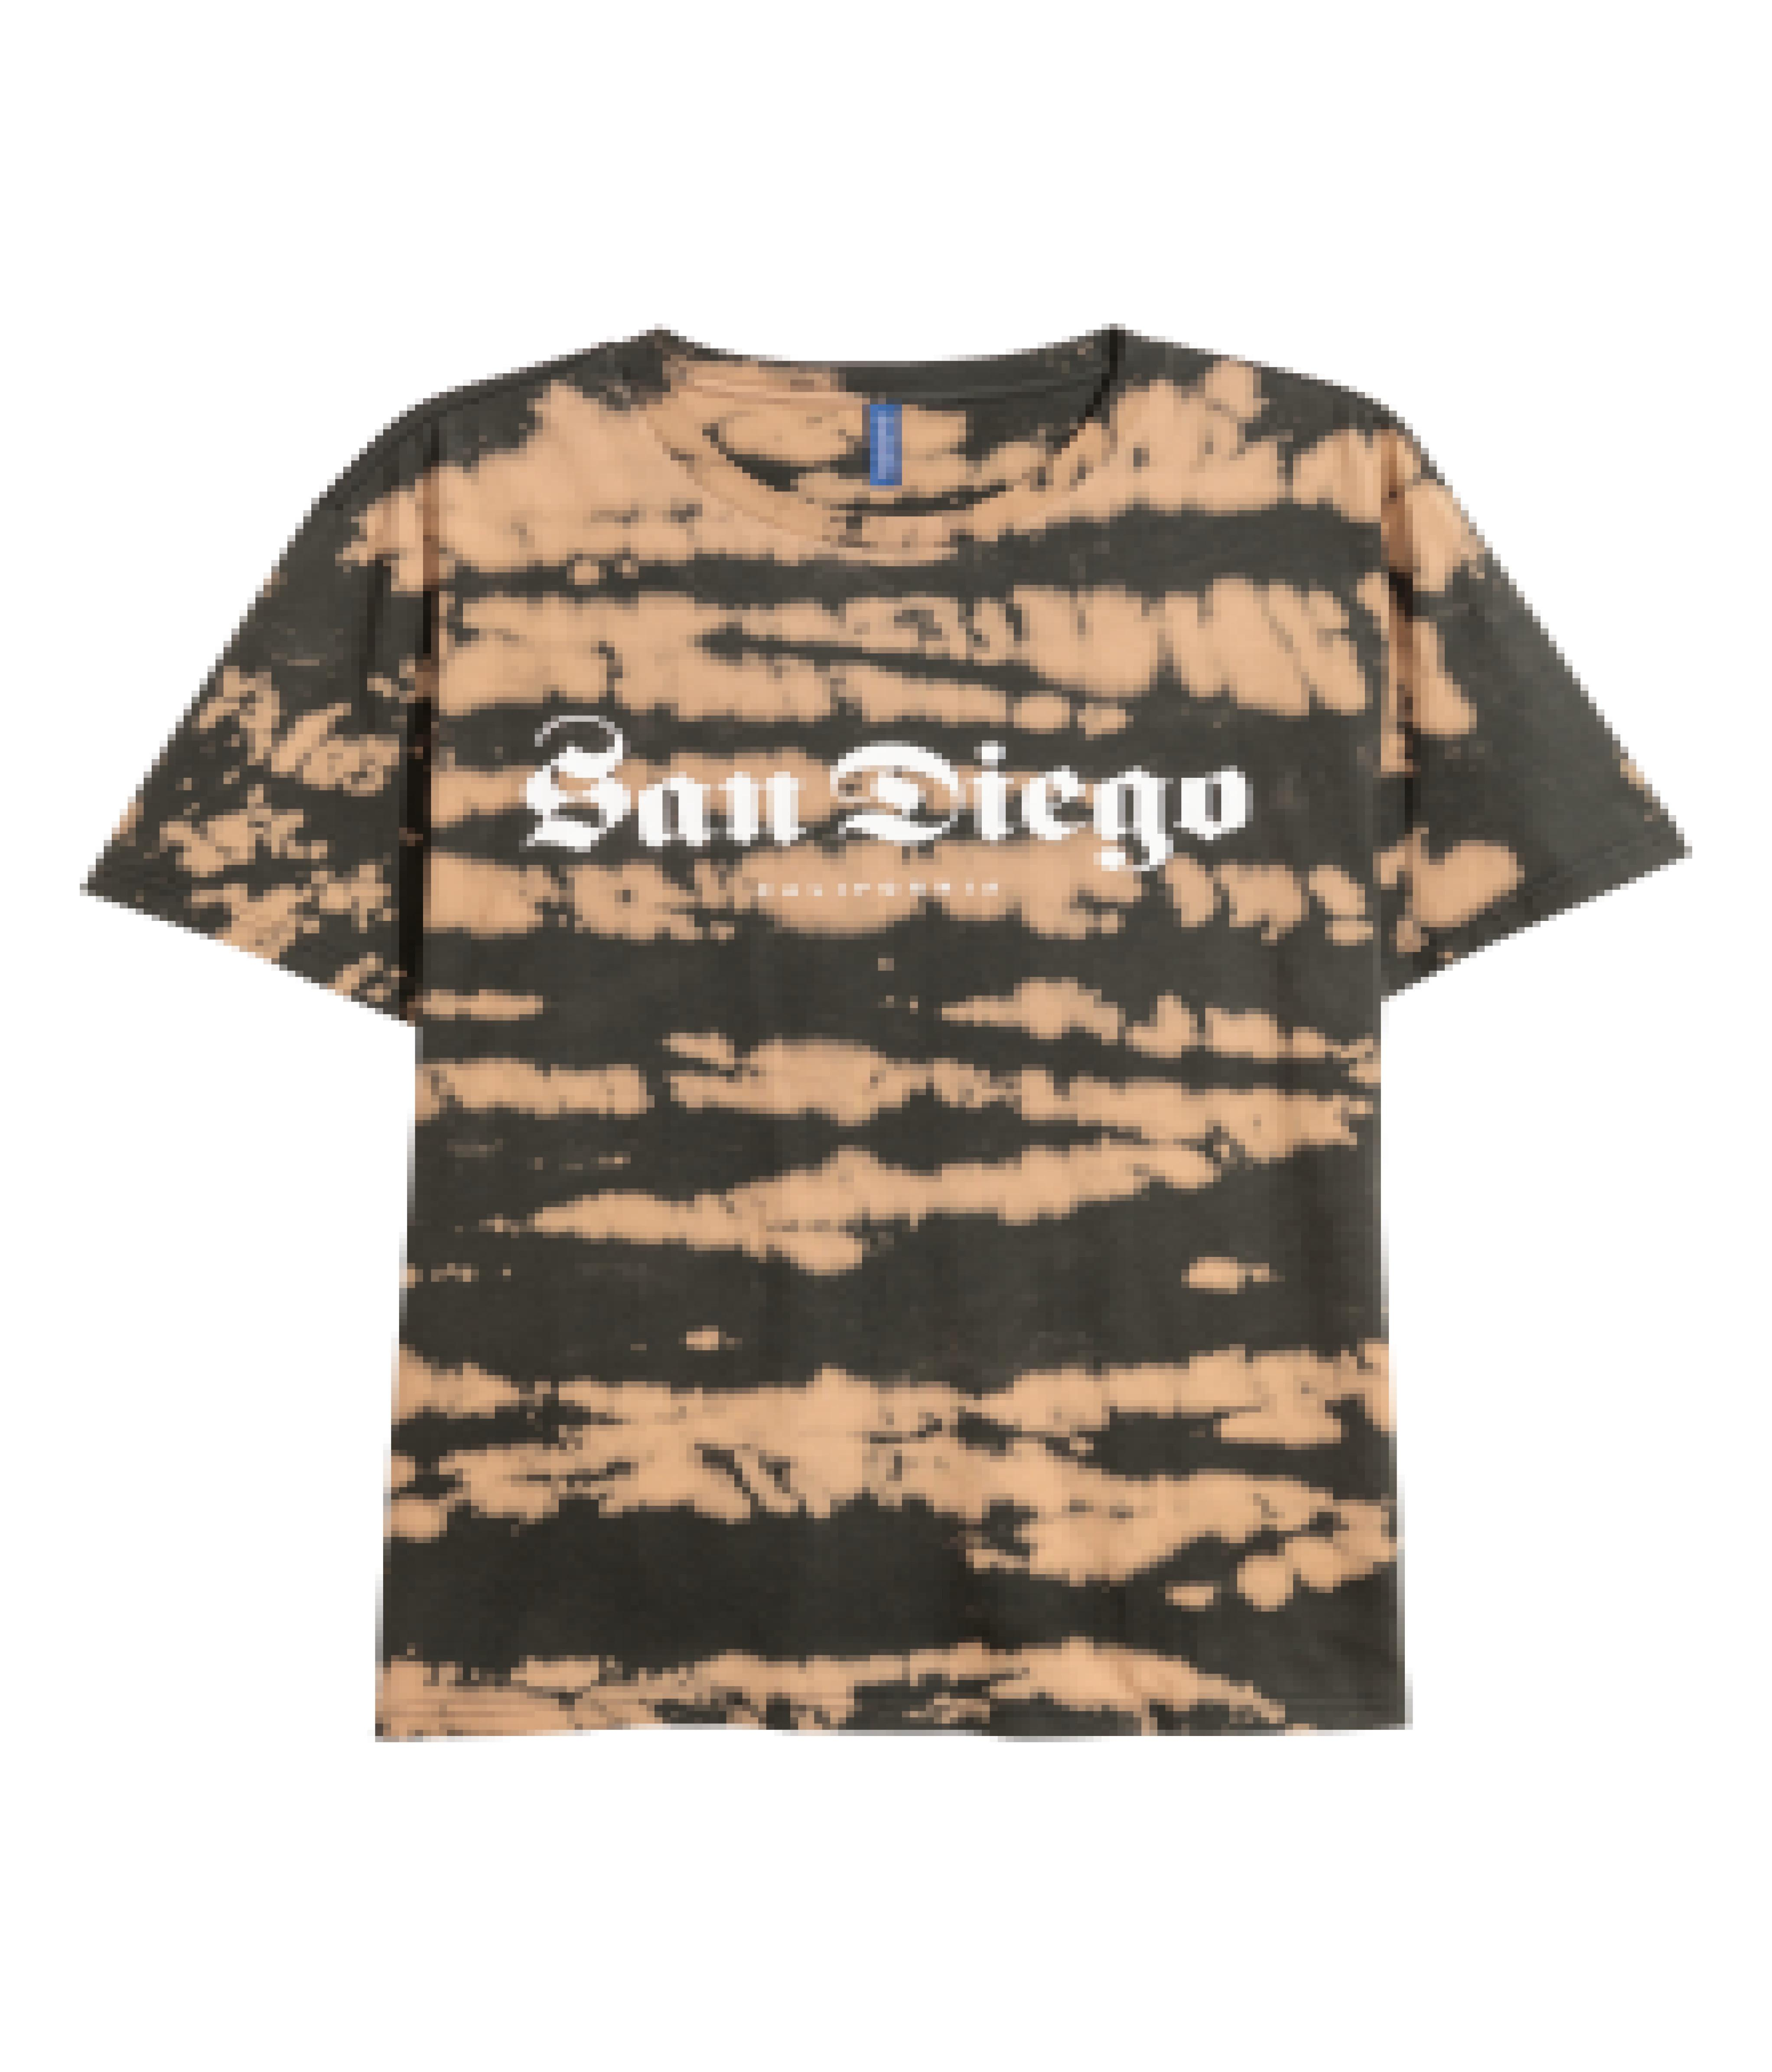teeshirt: (4, 4, 1768, 2068)
